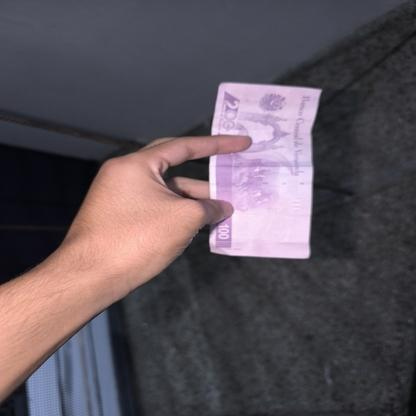one_hundred-back-vef: (208, 82, 322, 258)
